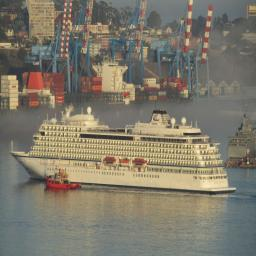cruises: (10, 101, 239, 199)
